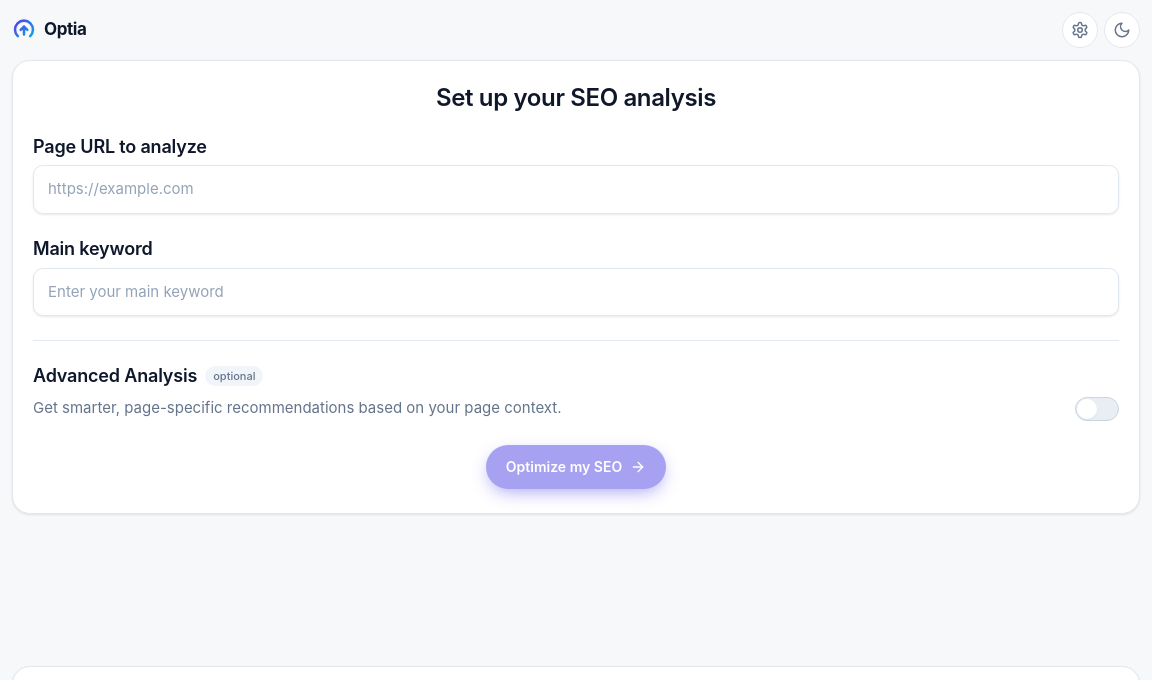
Test: SetupPage › shows the Anthropic API key input in the settings panel for Pro users
The image size is (1152, 680).
Click the button named "settings".
click(1080, 30)  # box [1062,12,1098,48]
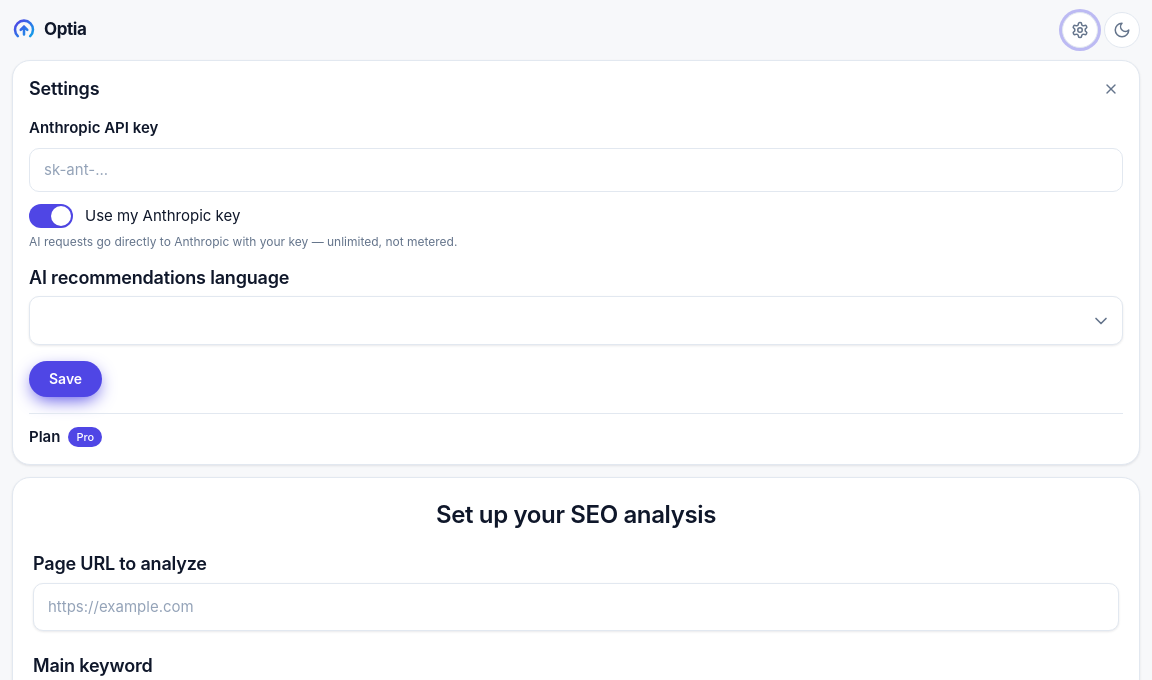
Expected: the password field labelled "Anthropic API key" is shown, [29,148,1123,192]
